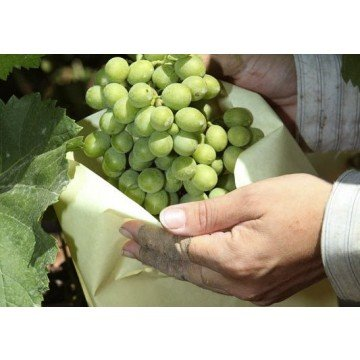Green grapes: (82, 56, 261, 210)
